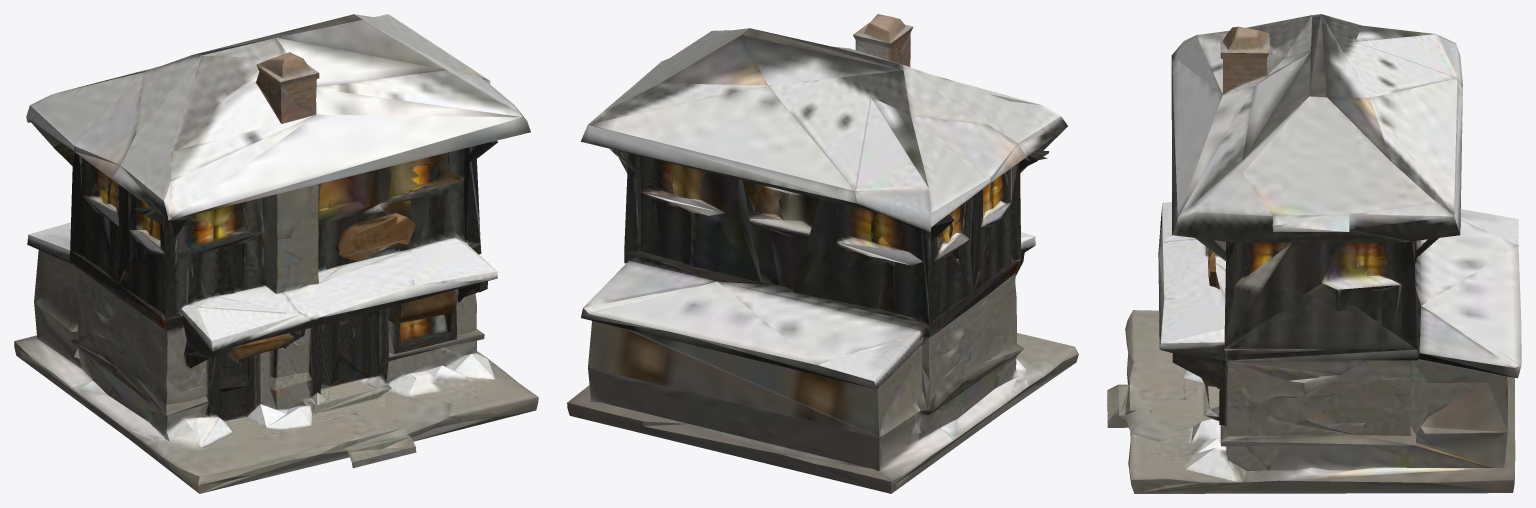
Rendered from tavern.glb.
3 renders of one model, left to right at view 1: azimuth 30°, elevation 25°; view 2: azimuth 150°, elevation 25°; view 3: azimuth 270°, elevation 25°, orthographic. The views are drawn at different scales.
Size of the model in its own units: 1.9 by 1.74 by 1.78.
Materials: 1 (1 with a texture image).
